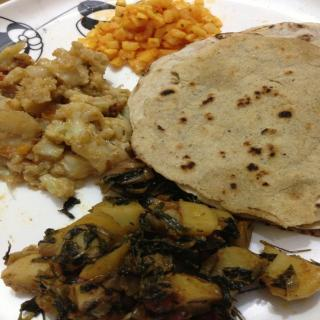Potato: (0, 198, 320, 320)
